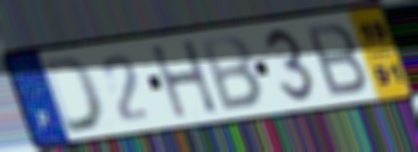2: (102, 52, 153, 124)
3: (264, 24, 318, 108)
B: (198, 32, 266, 113), (302, 20, 371, 99)
D: (39, 54, 107, 136)
H: (147, 37, 222, 121)
